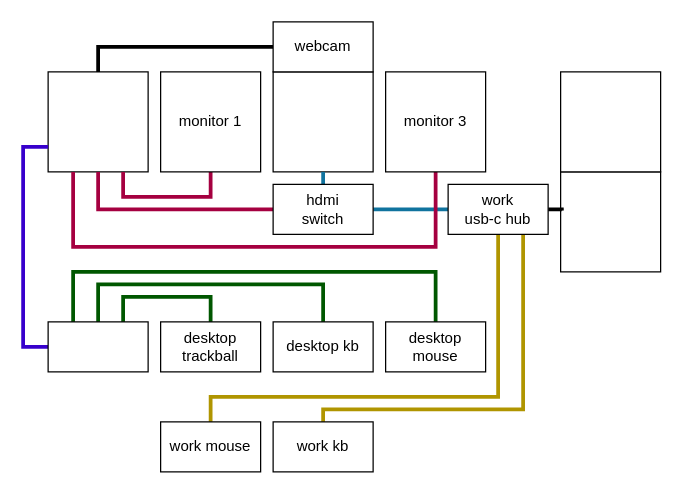
Some shapes in this 683 by 494 pixel diagram are drawn without their labels. The shapes that lost their labels are listed below. From the top down, each one's centre as x and y in pixels, then its label:
At (97,121): "win10 desktop".
At (322,121): "monitor 2".
At (610,121): "work laptop monitor".
At (610,221): "work laptop".
At (97,346): "usb hub".
